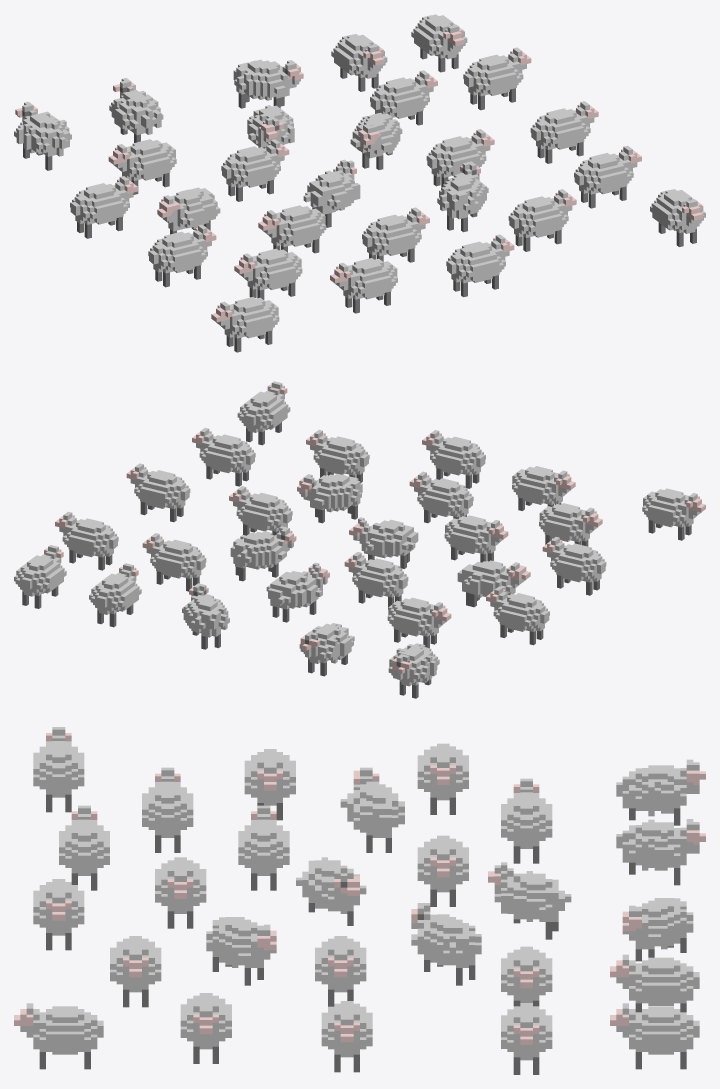
3 renders of one model, top to bottom at view 1: azimuth 30°, elevation 25°; view 2: azimuth 150°, elevation 25°; view 3: azimuth 270°, elevation 25°, orthographic. The views are drawn at different scales.
Visible parts, largest first — view 1: VOX; view 2: VOX; view 3: VOX.
Boxes of the visible parts, bbox=[...] form: VOX: bbox=[14, 14, 705, 352]; VOX: bbox=[14, 381, 705, 698]; VOX: bbox=[14, 727, 705, 1074].
Bounding box in the file's own units: 0.113 × 0.01 × 0.108.
